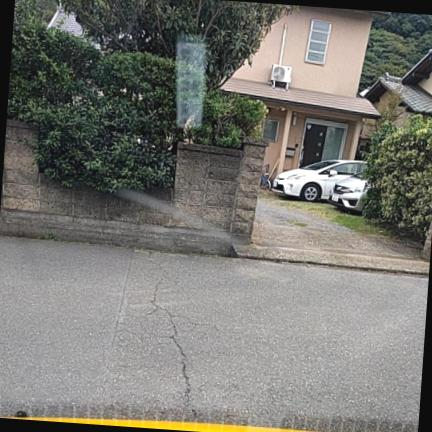Road: (0, 237, 428, 431)
